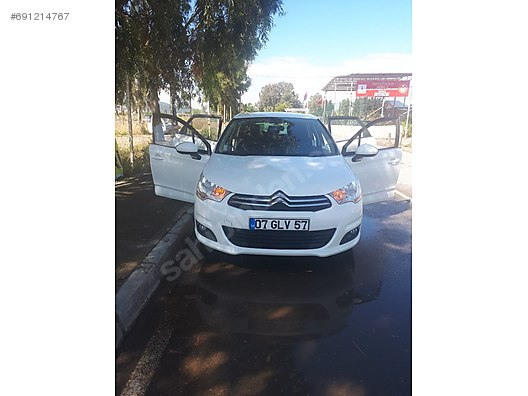citroen: (145, 103, 366, 257)
